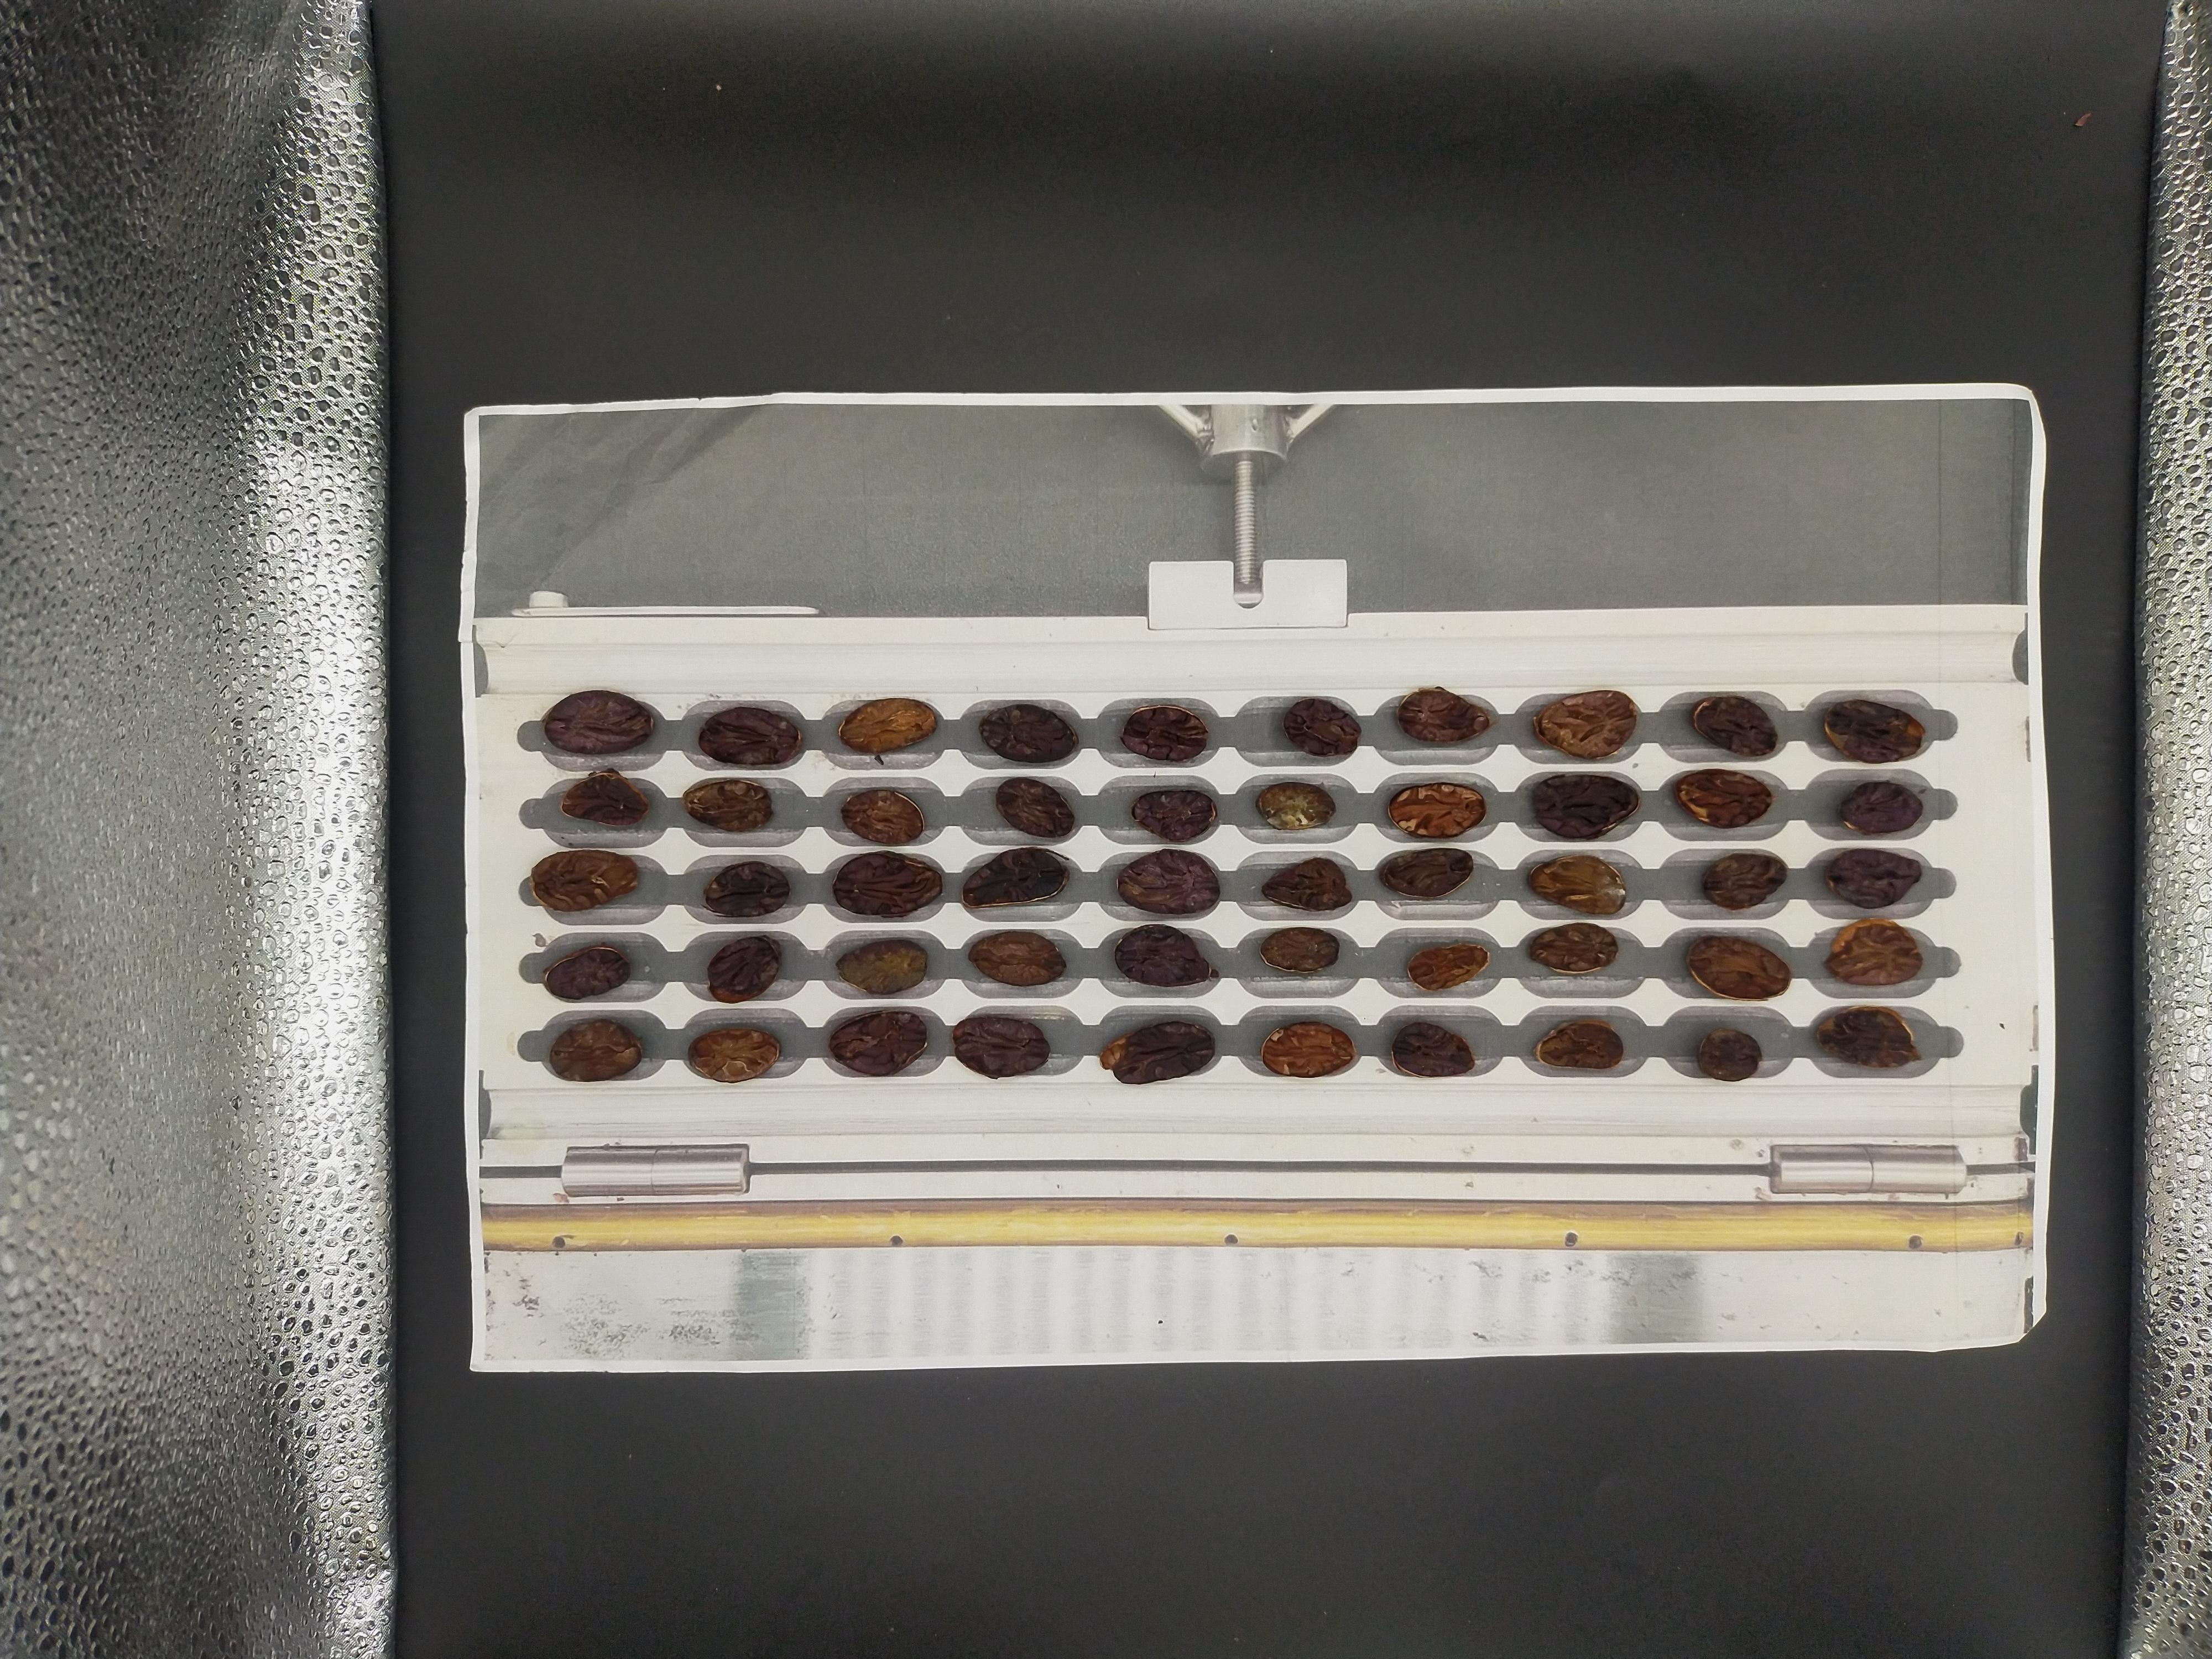Brown - G1: (1503, 1246, 1566, 1283), (2013, 1283, 2067, 1314), (1935, 1204, 1991, 1234), (1428, 1208, 1480, 1239), (1723, 1331, 1775, 1363), (1792, 1213, 1843, 1239), (1797, 1291, 1843, 1319), (1862, 1283, 1909, 1309)
Brown - G2: (1865, 1161, 1926, 1199), (1350, 1244, 1407, 1281), (1430, 1331, 1480, 1368), (1792, 1161, 1844, 1195), (1510, 1215, 1554, 1246), (1724, 1249, 1773, 1277)
Brown - G3: (1362, 1331, 1413, 1366), (1575, 1286, 1627, 1319), (1946, 1291, 1996, 1324), (1508, 1168, 1559, 1197), (1865, 1333, 1912, 1361)
Brown - G4: (1723, 1284, 1770, 1314)
Insect-damaged: (1508, 1293, 1559, 1321)
Mouldy: (1864, 1248, 1918, 1281), (1721, 1209, 1766, 1239)
Partly Purple - G1: (1862, 1206, 1921, 1241), (1648, 1171, 1698, 1201)
Partly Purple - G2: (2010, 1164, 2067, 1202), (1942, 1166, 1998, 1202), (1649, 1244, 1707, 1277), (1566, 1326, 1618, 1361), (1435, 1173, 1491, 1204), (1571, 1246, 1627, 1277), (1792, 1333, 1839, 1366), (1735, 1166, 1778, 1199)
Total Purple - G2: (2012, 1249, 2066, 1276), (1656, 1211, 1703, 1239)
Total Purple - G3: (1360, 1162, 1420, 1199), (1649, 1281, 1705, 1317), (1359, 1295, 1404, 1326), (2020, 1208, 2066, 1237)
Very Dark Brown - G1: (1639, 1330, 1710, 1368), (2008, 1324, 2067, 1361), (1439, 1290, 1484, 1323)
Very Dark Brown - G2: (1507, 1323, 1557, 1363), (1367, 1202, 1414, 1239), (1590, 1206, 1634, 1244), (1439, 1248, 1486, 1281), (1952, 1244, 1996, 1277)
Very Dark Brown - G3: (1578, 1171, 1635, 1202), (1784, 1244, 1839, 1272), (1946, 1335, 1982, 1366)
